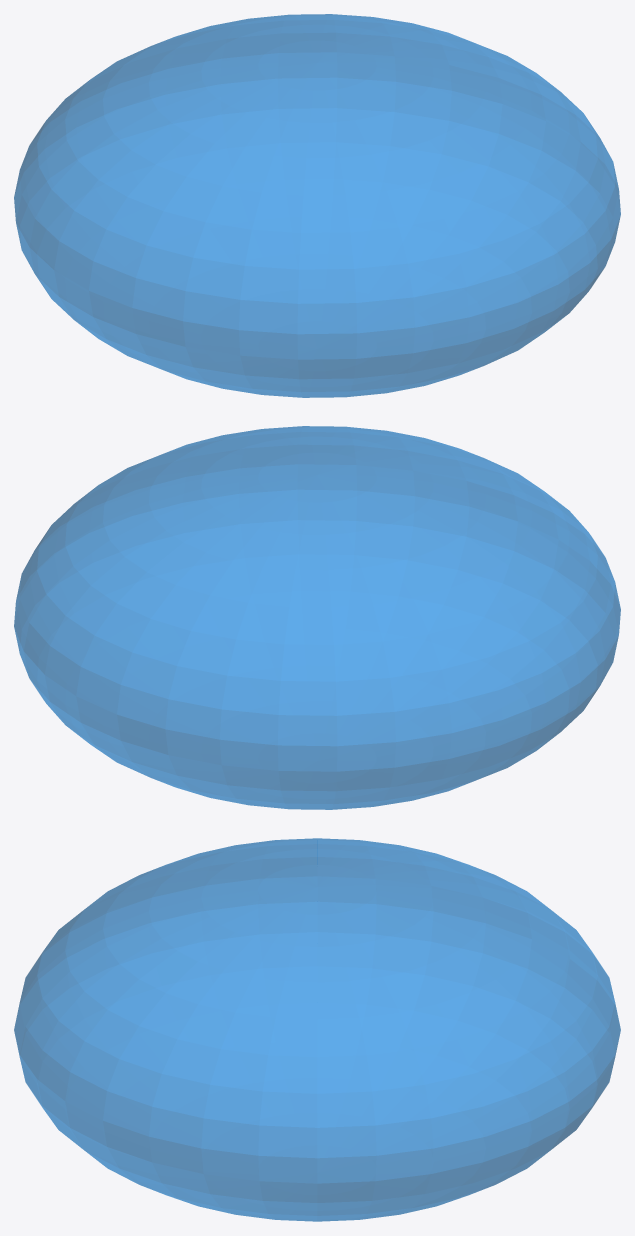
The model's file is Shield.fbx.
3 renders of one model, top to bottom at view 1: azimuth 30°, elevation 25°; view 2: azimuth 150°, elevation 25°; view 3: azimuth 270°, elevation 25°, orthographic.
Parts seen in each view (by area): view 1: Sphere.001; view 2: Sphere.001; view 3: Sphere.001.
Part boxes in pixels (left/top/right/bottom): Sphere.001: left=14, top=14, right=620, bottom=397; Sphere.001: left=14, top=426, right=620, bottom=809; Sphere.001: left=14, top=838, right=620, bottom=1221.
Size of the model in its own units: 268 by 139 by 268.
